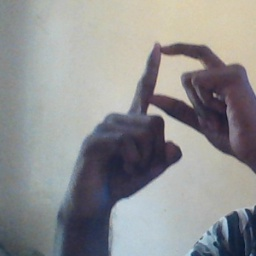D: (122, 36, 231, 139)
